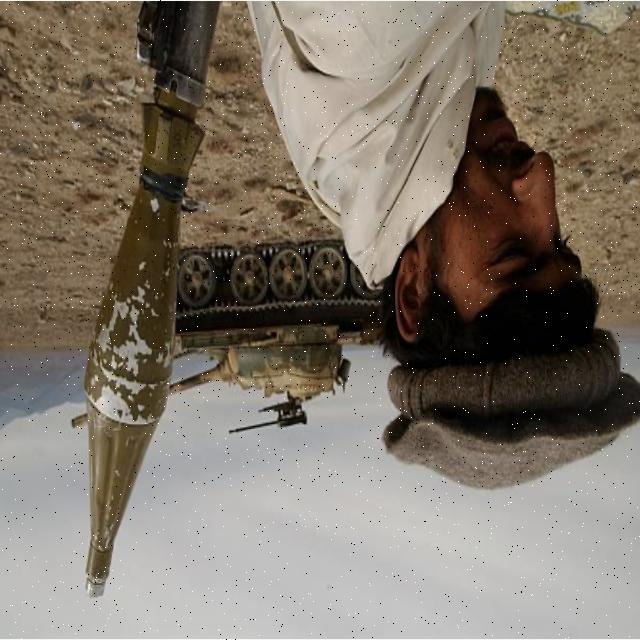bazooka: (77, 1, 228, 610)
